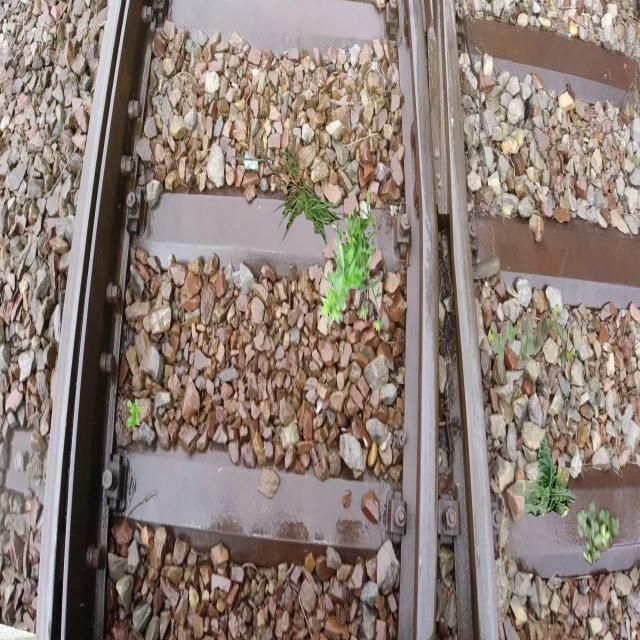Plant: (231, 126, 374, 245), (319, 190, 384, 334), (487, 304, 574, 372), (513, 435, 576, 518), (576, 499, 620, 566), (127, 398, 144, 430)
